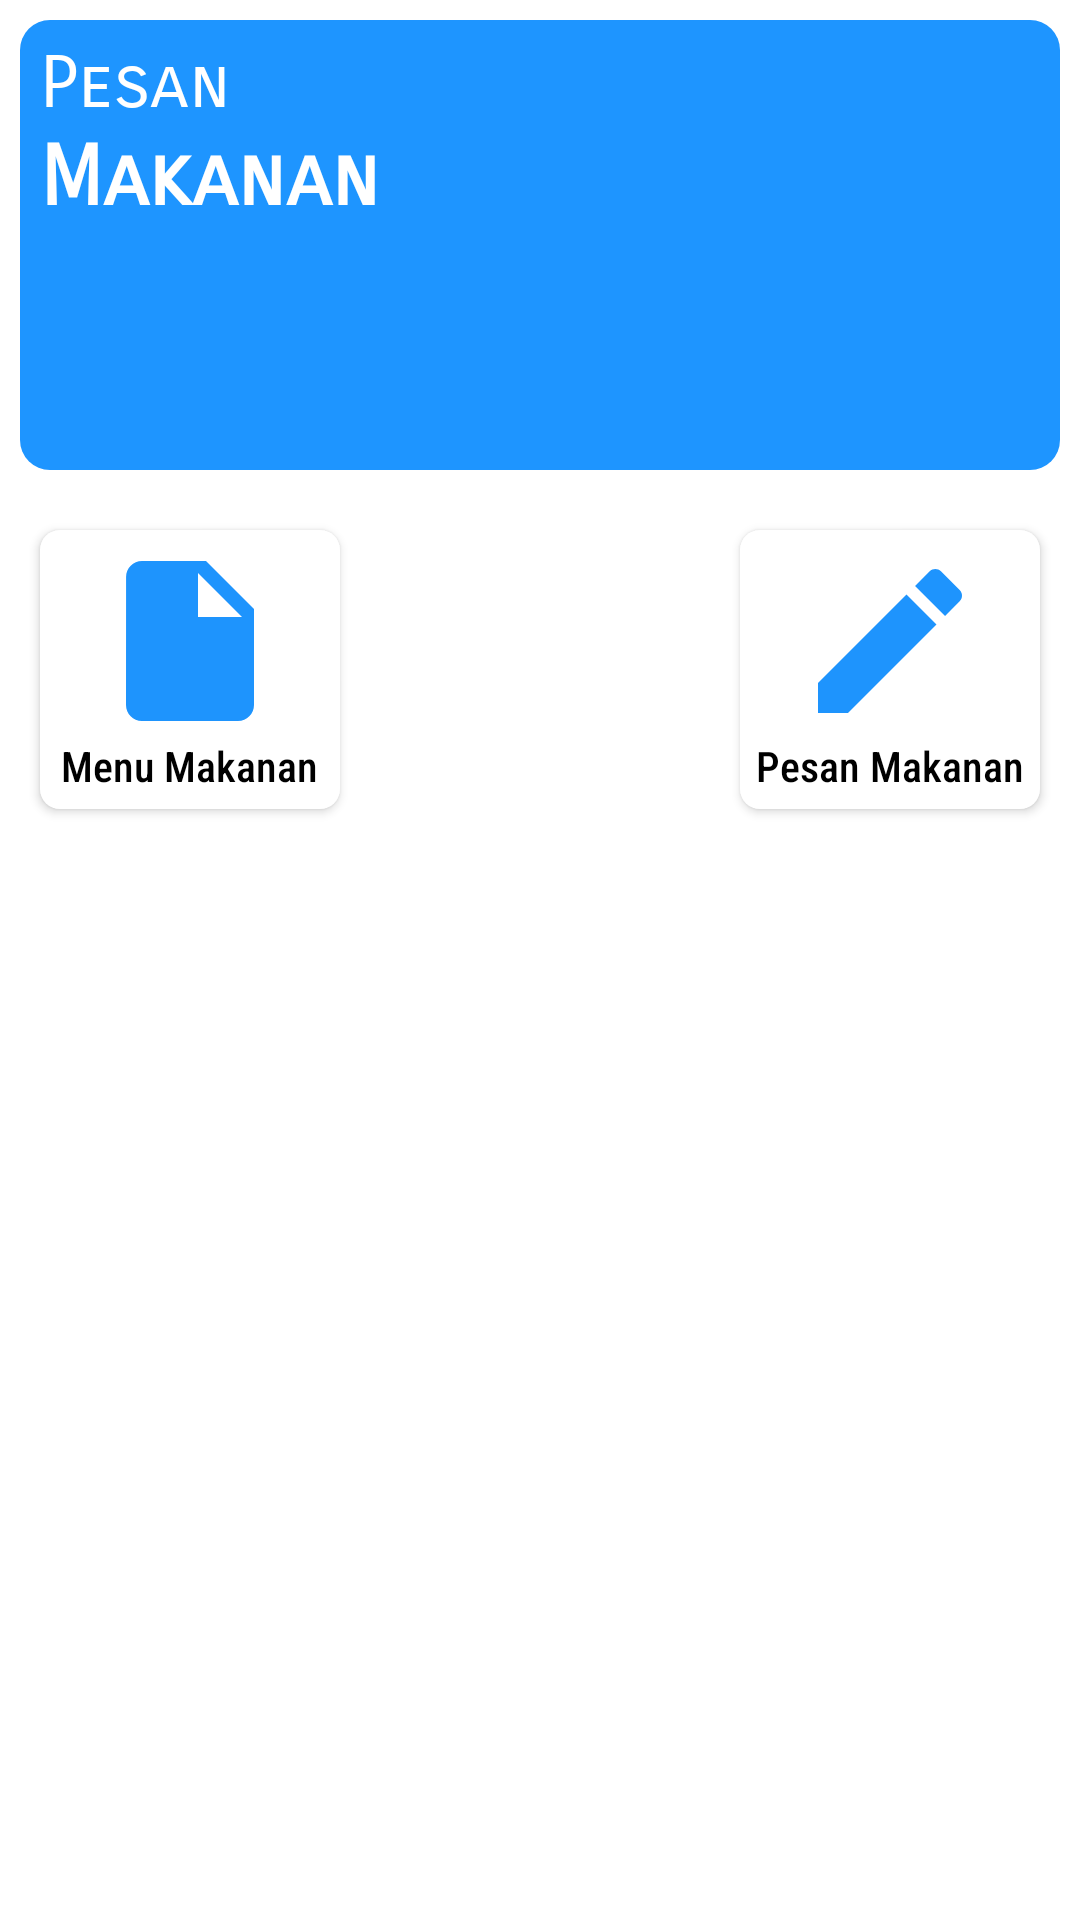

Icons on this 1080*1920 Android screen, each with its box as [left=x1, top=y1, right=x2, bottom=y2]:
daftar: [left=126, top=561, right=254, bottom=721]
